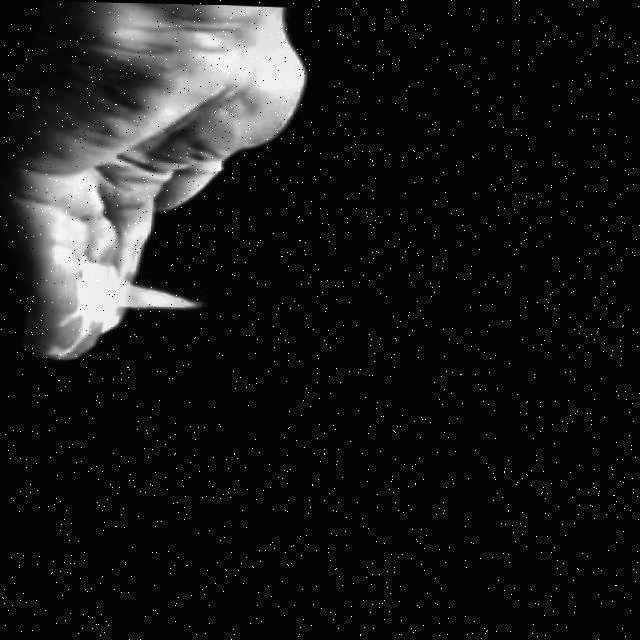Fire: (94, 267, 214, 311)
